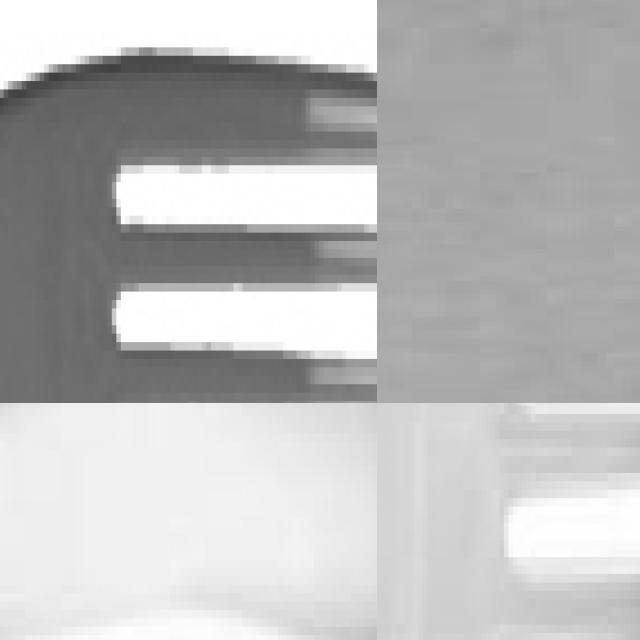forks: (0, 0, 377, 403), (377, 403, 640, 640)
spoons: (0, 403, 377, 640)
